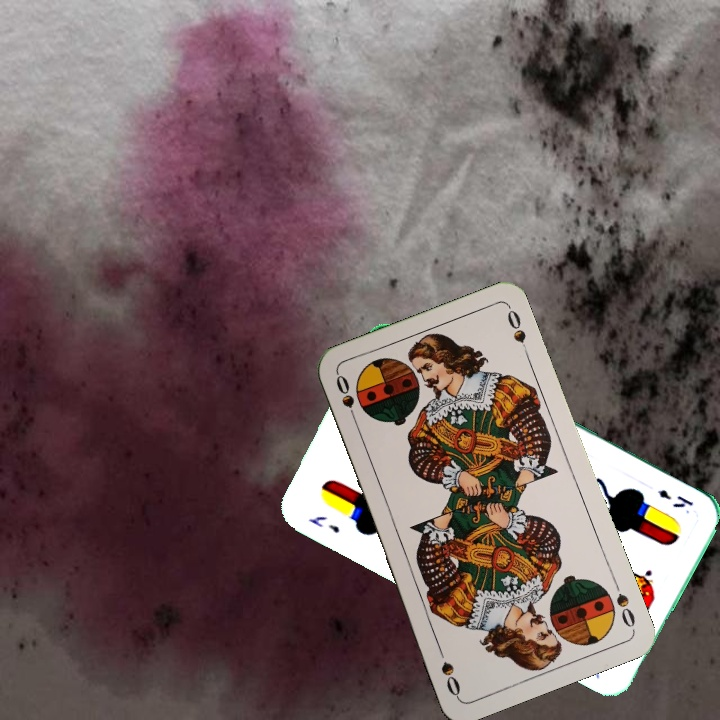EK: (653, 485, 696, 511), (304, 511, 342, 536)
SO: (331, 370, 361, 428), (609, 575, 638, 630)
